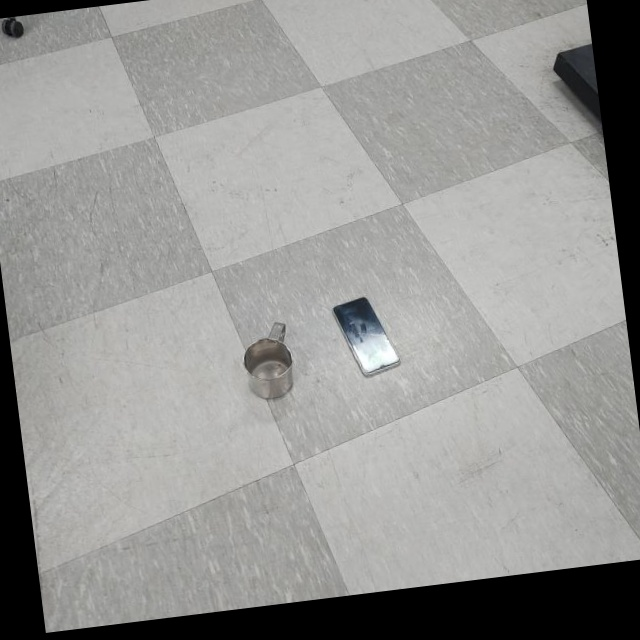cup: (238, 322, 297, 405)
phone: (332, 292, 402, 382)
